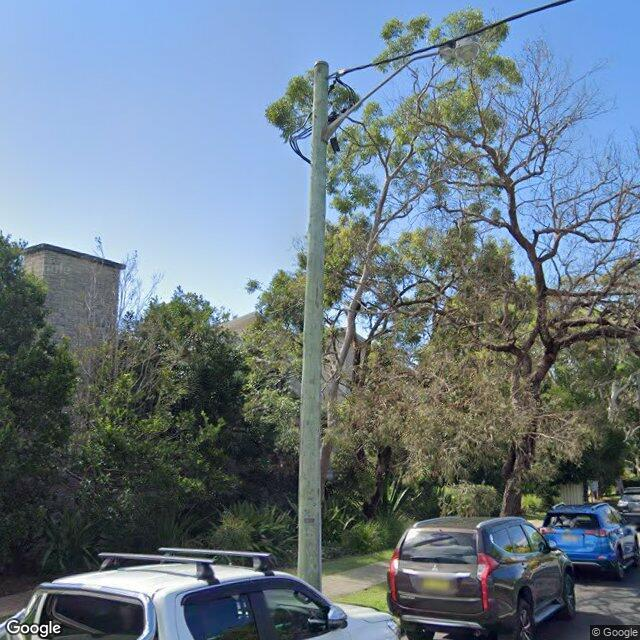streetlight: (322, 41, 483, 143)
timber-pole: (296, 60, 331, 593)
